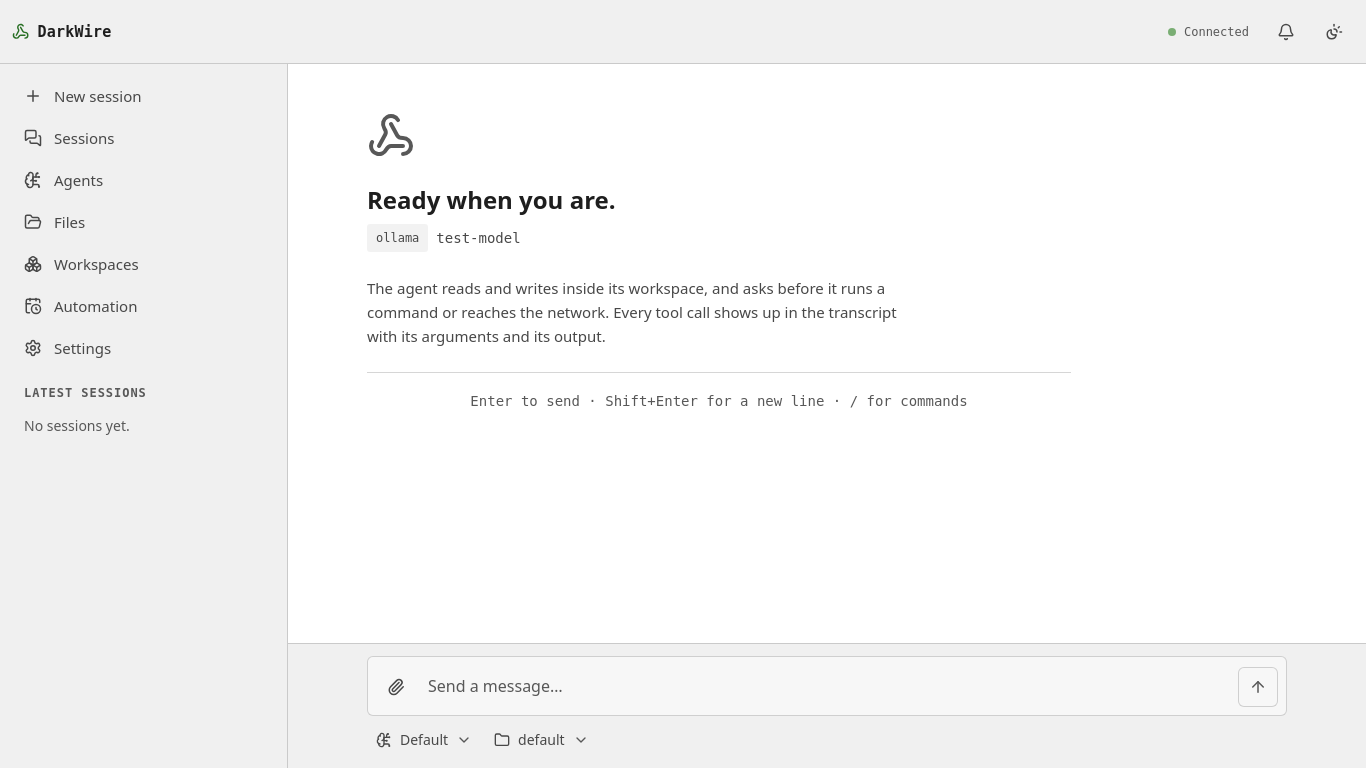
Test: sending › says a refused message was not sent, rather than sending forever
Type "one too many" into the text box labelled "message".
click(827, 686); type("one too many")  # box [424,665,1230,707]
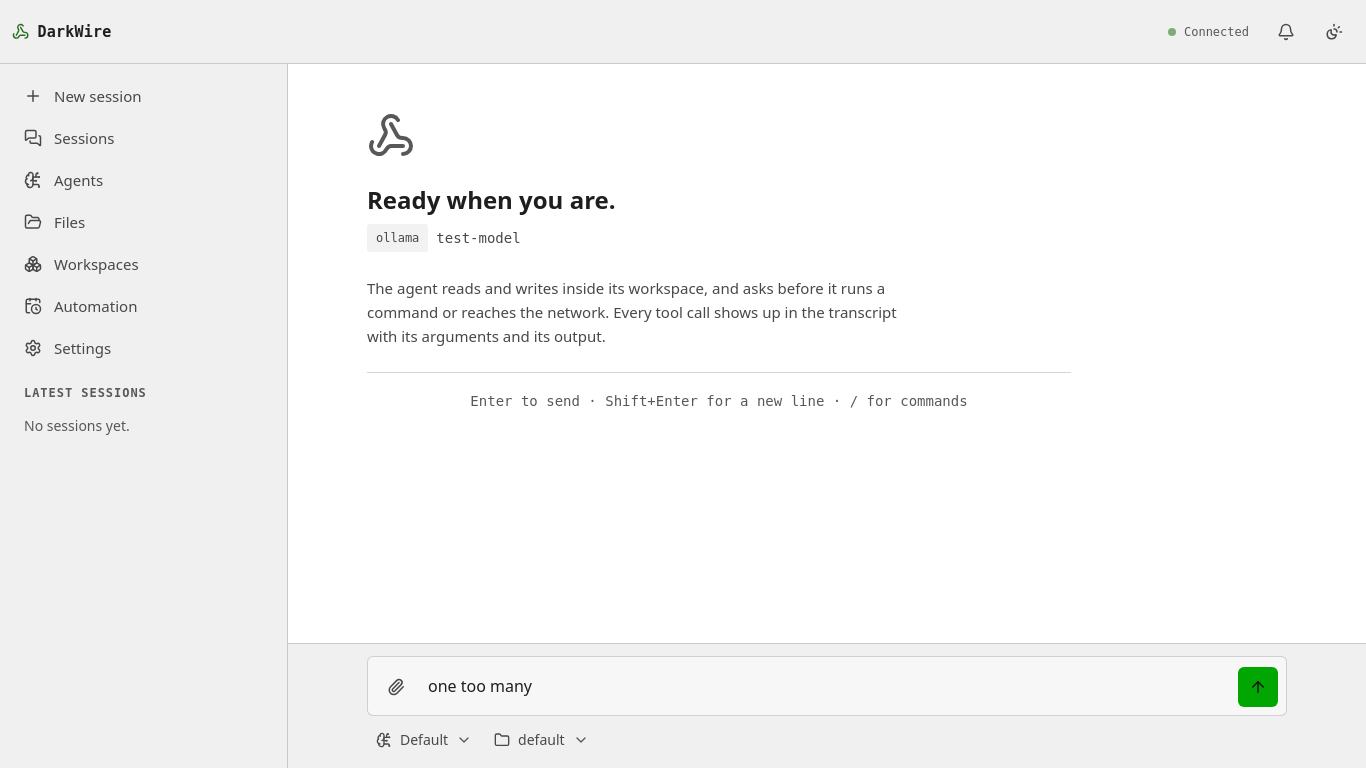
Click the button named "Send".
click(1258, 687)  # box [1238,667,1278,707]
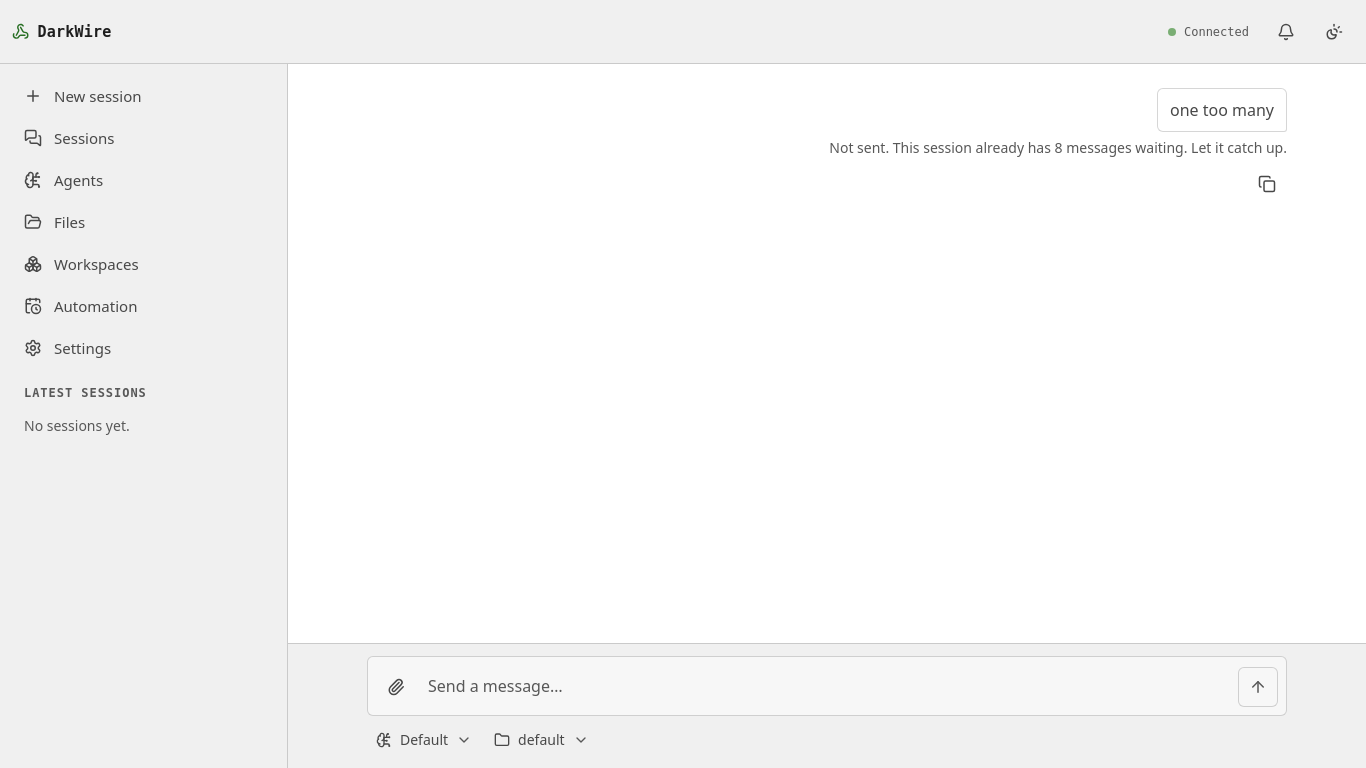
Check: the text "Not sent. This session already has 8 messages waiting. Let it catch up." is shown, box [829,136,1287,160]
